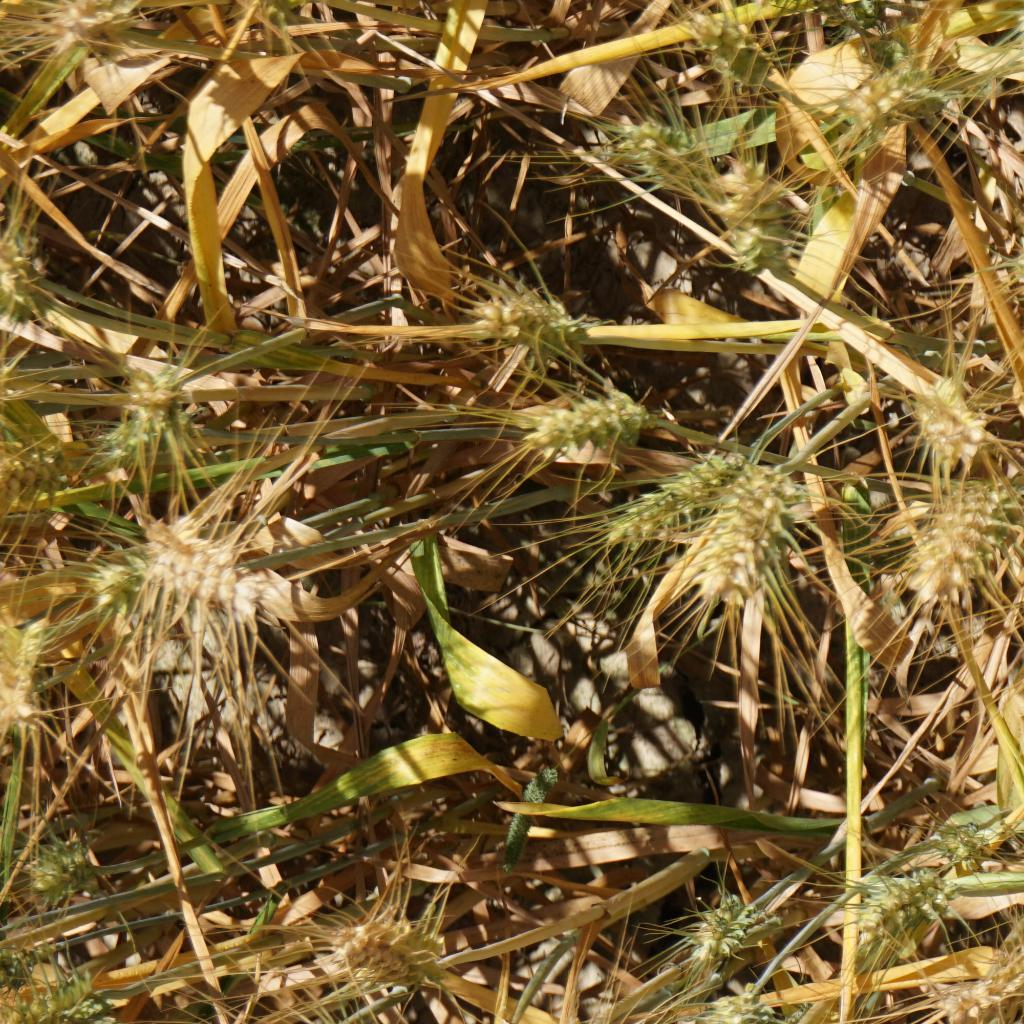0-0: (694, 462, 821, 603), (135, 513, 273, 631), (607, 444, 752, 552), (898, 483, 1001, 615), (711, 137, 804, 264), (102, 365, 201, 482), (518, 376, 648, 460), (900, 368, 1007, 470), (821, 61, 940, 148), (854, 860, 958, 954), (332, 907, 443, 992), (683, 885, 785, 970), (475, 281, 591, 354), (930, 935, 1024, 1024), (683, 7, 778, 91), (11, 815, 105, 897), (607, 99, 692, 179), (0, 971, 123, 1024), (86, 551, 160, 621), (24, 0, 132, 45), (0, 606, 34, 731), (0, 453, 71, 508), (0, 236, 41, 311), (934, 816, 991, 868), (695, 987, 774, 1024), (221, 0, 321, 18), (1008, 216, 1024, 324), (726, 0, 833, 16)
